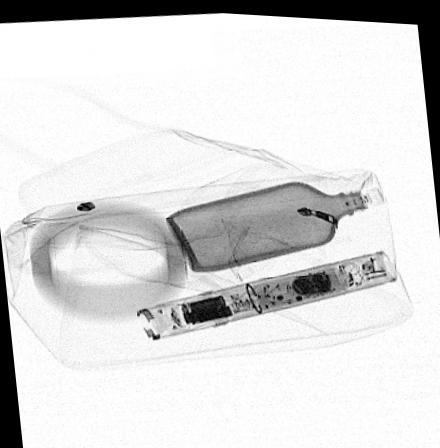Baton: (133, 244, 398, 339)
